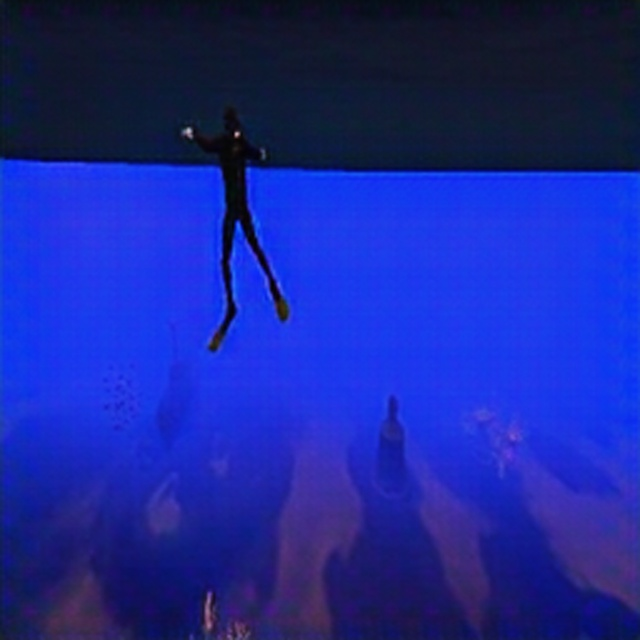diver: (180, 104, 289, 330)
